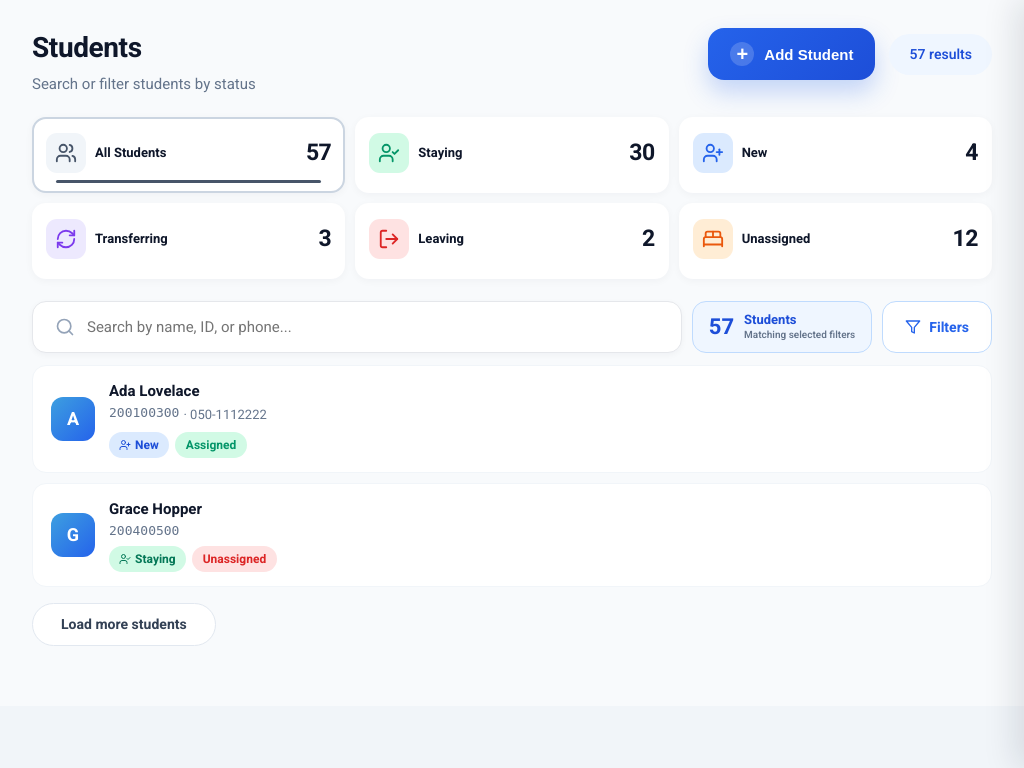
StudentsPage pagination › restarts from the first page when the status tab changes
The image size is (1024, 768).
Expected: the text "Ada Lovelace" is shown, [109,380,200,402]
Click the button "Load more students".
click(124, 624)  # box [32,603,216,646]
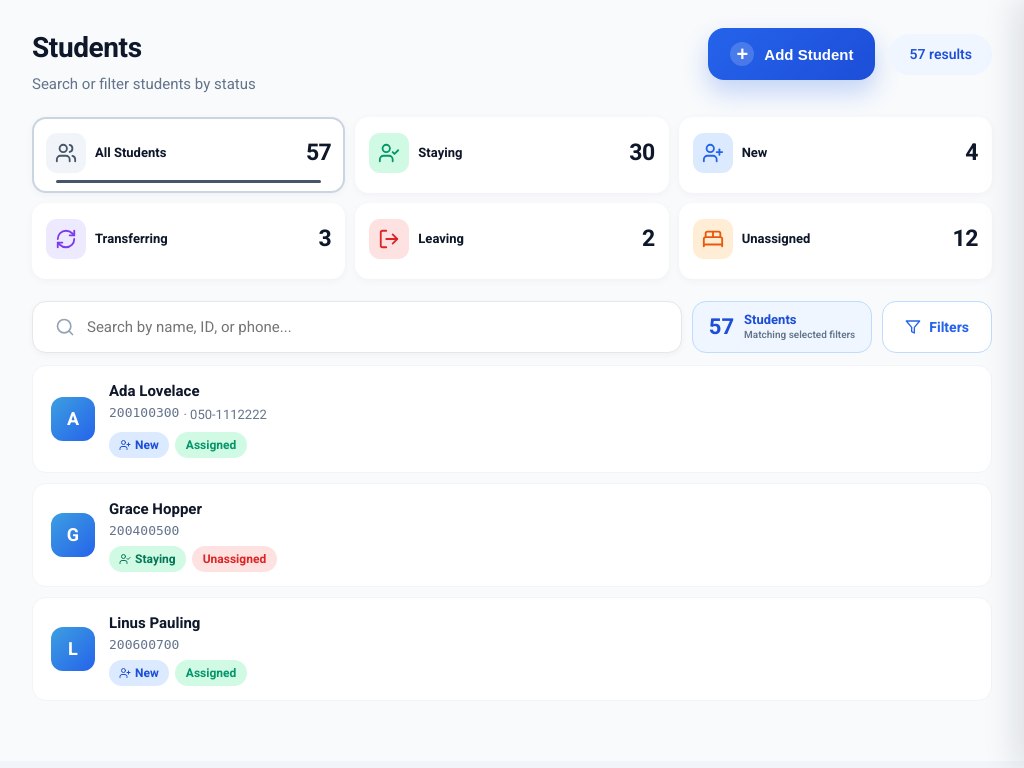
Expected: the text "Linus Pauling" is shown, [109,612,200,634]
Click the button "New 4".
click(713, 153)  # box [679,117,992,193]
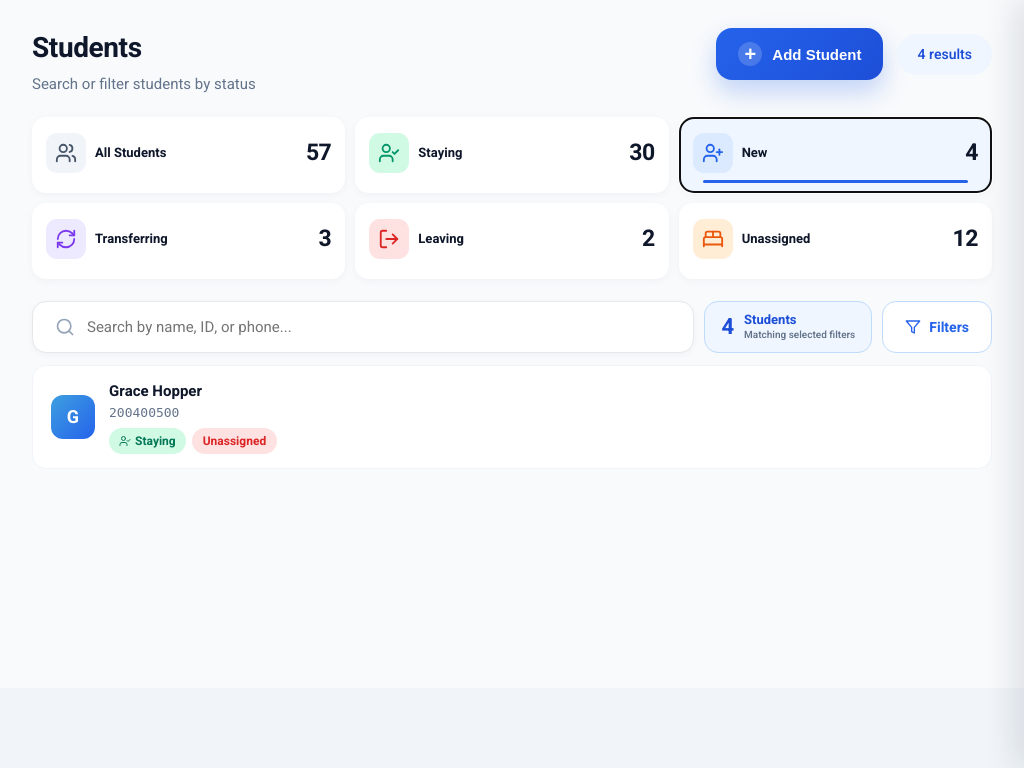
Expected: the text "Linus Pauling" is gone
Expected: the text "Ada Lovelace" is gone
Expected: the text "4 results" is shown, [898,34,992,74]
